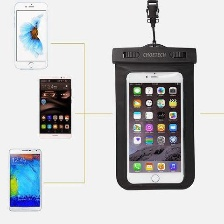phone: (120, 66, 186, 187), (34, 70, 77, 142), (12, 0, 50, 71), (5, 145, 44, 214)
